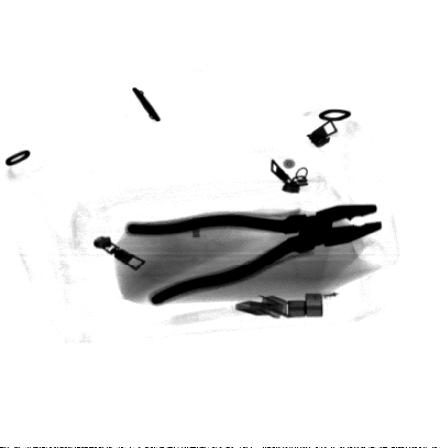Pliers: (124, 204, 383, 307)
